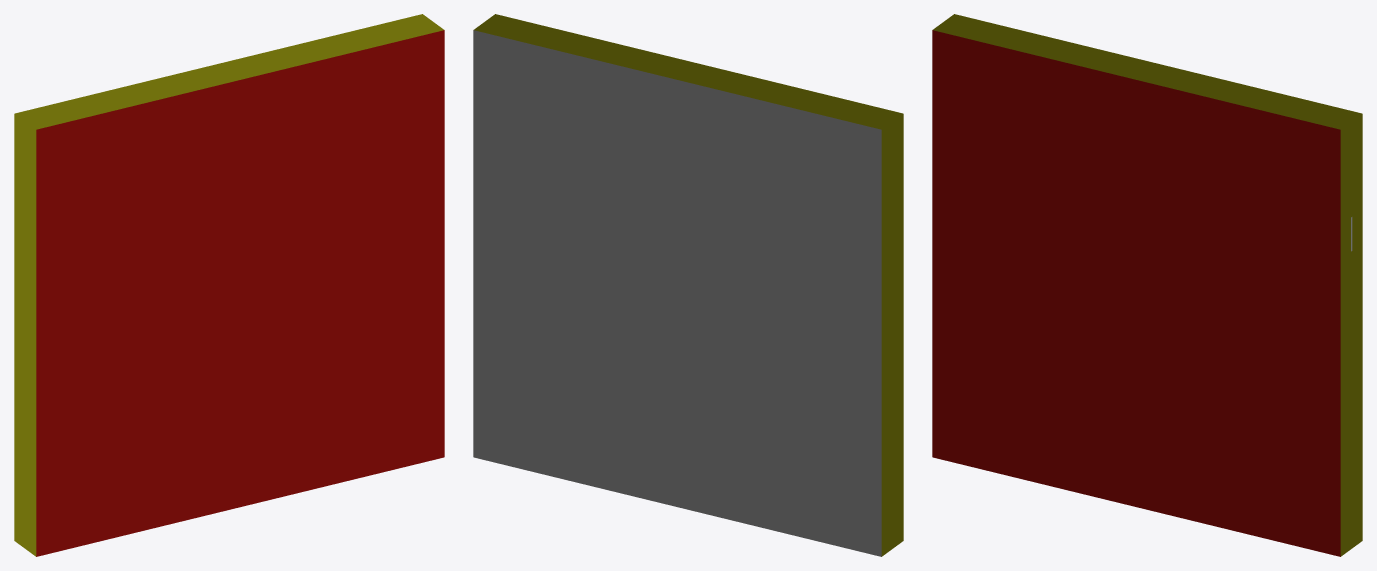
Rendered from idf.obj.
3 views of the same model, side by side, from view 1: azimuth 30°, elevation 25°; view 2: azimuth 150°, elevation 25°; view 3: azimuth 330°, elevation 25° (orthographic).
Size of the model in its own units: 45.72 by 45.72 by 4.27.
